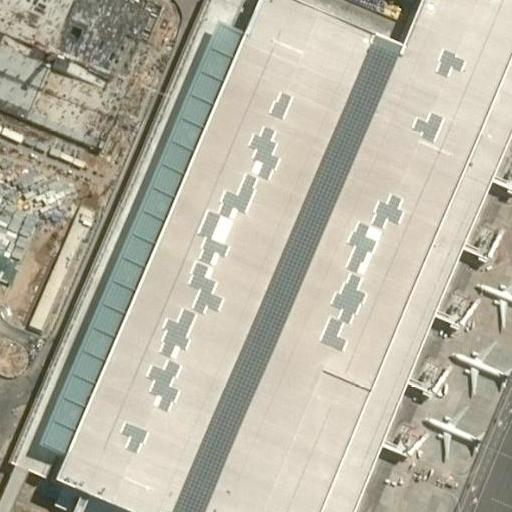Aircraft: (422, 404, 487, 463), (450, 337, 510, 396), (475, 271, 512, 330)
